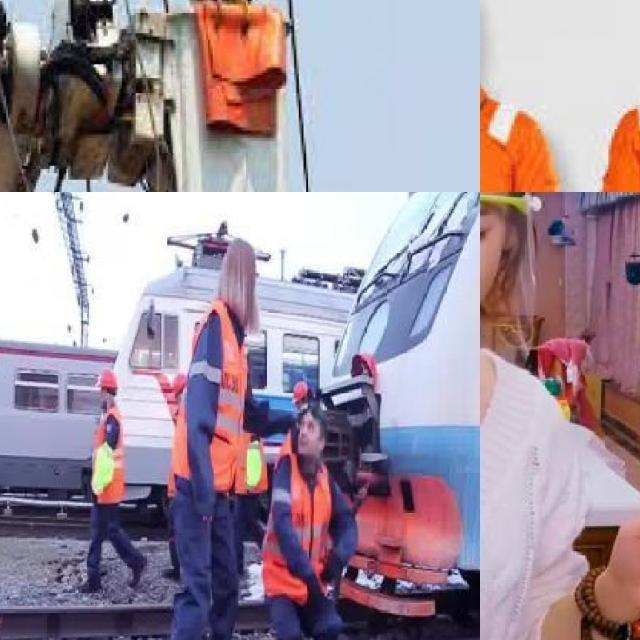apron: (308, 578, 330, 612)
